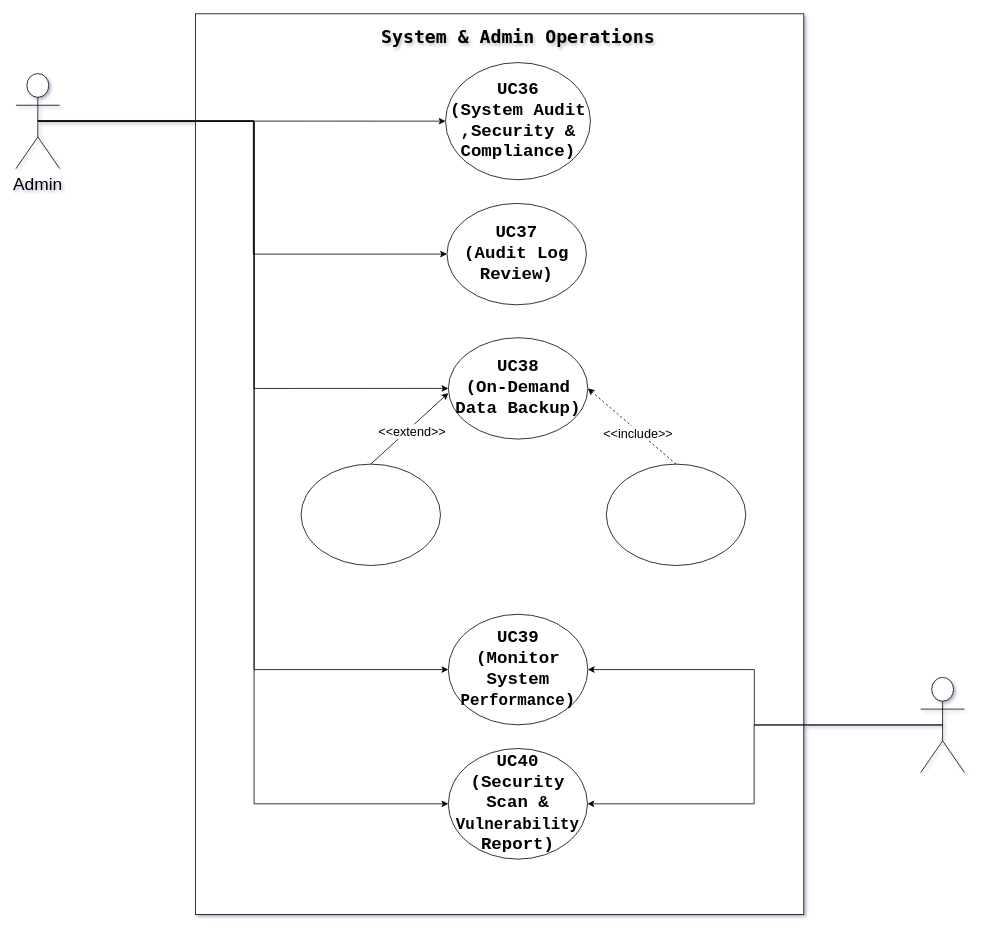
Some shapes in this 990 by 933 pixel diagram are drawn without their labels. The shapes that lost their labels are listed below. From the top down, each one's centre as x and y in pixels, then its label:
At point (370, 514): "(Restore from Backup)".
At point (676, 514): "(Automated Data Archival)".
At point (942, 725): "System".
